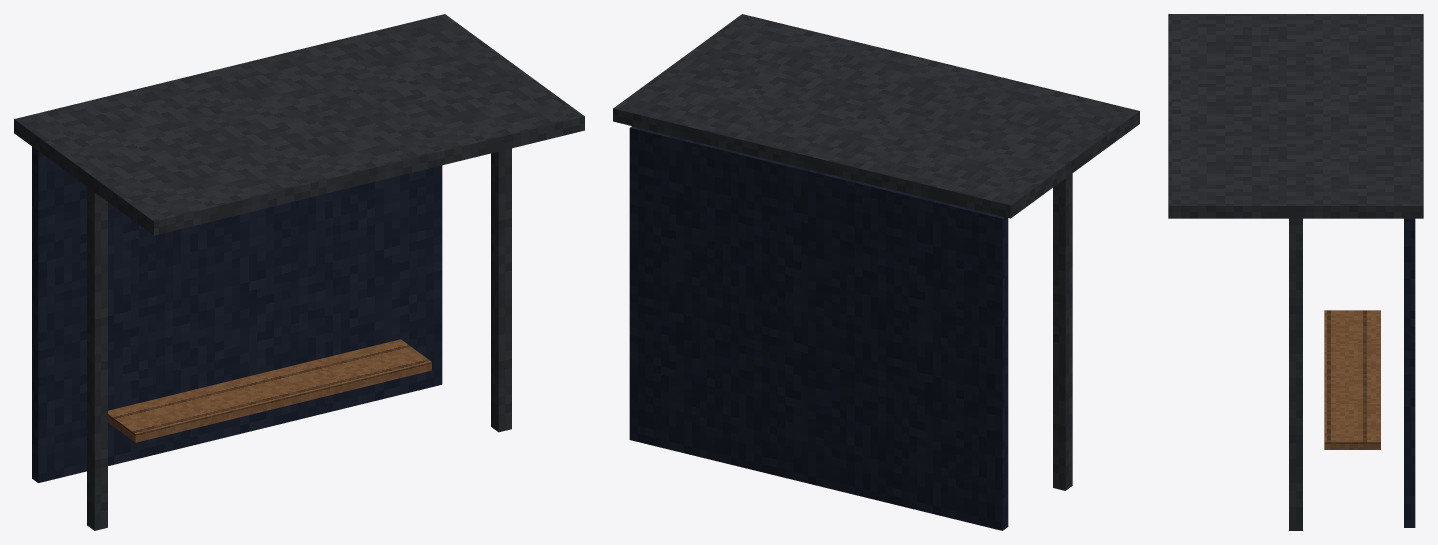
Rendered from env_bus_shelter.glb.
The picture shows the model from 3 angles, left to right: view 1: azimuth 30°, elevation 25°; view 2: azimuth 150°, elevation 25°; view 3: azimuth 270°, elevation 25°; orthographic projection. The views are drawn at different scales.
Parts seen in each view (by area): view 1: env_bus_shelter; view 2: env_bus_shelter; view 3: env_bus_shelter.
Boxes of the visible parts, x1=… form: env_bus_shelter: x1=14, y1=14, x2=584, y2=530; env_bus_shelter: x1=613, y1=14, x2=1139, y2=530; env_bus_shelter: x1=1168, y1=14, x2=1423, y2=530.
Bounding box in the file's own units: 3.2 × 2.55 × 1.8.
3 materials, 3 textured.
